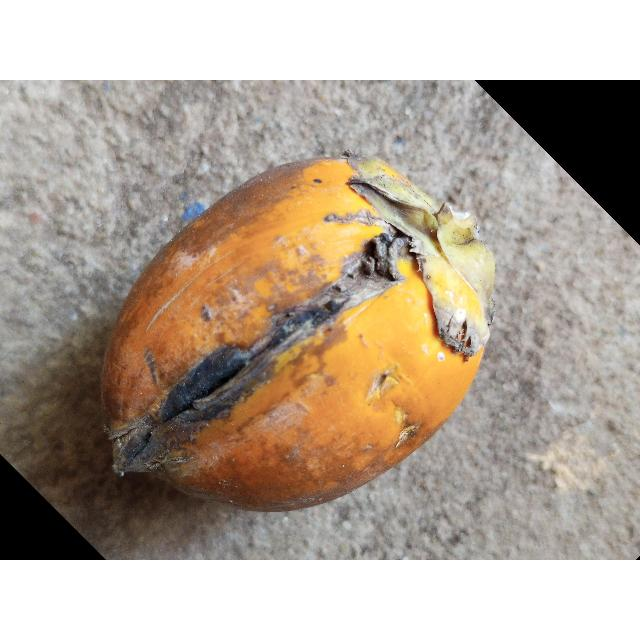damaged: (102, 152, 495, 511)
